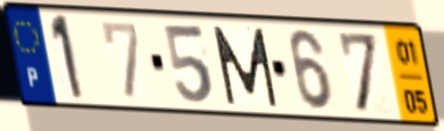1: (48, 11, 87, 104)
5: (161, 23, 216, 106)
6: (287, 27, 336, 113)
7: (336, 28, 384, 116), (96, 18, 143, 102)
M: (209, 23, 282, 110)
